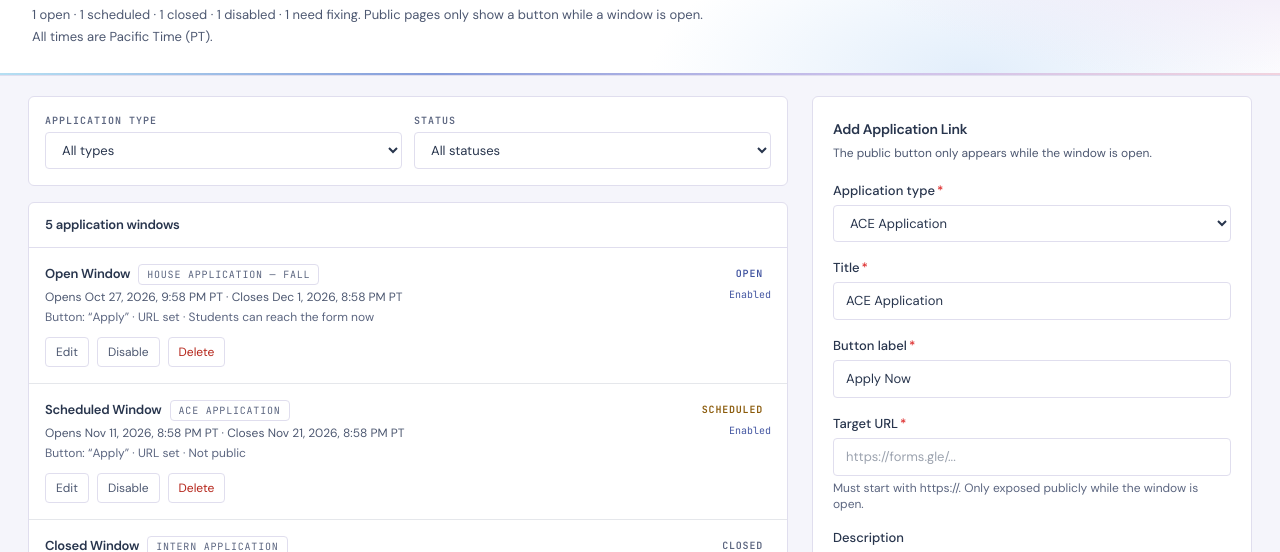
Test: public preview › previews the open state before the window opens, using the real public CTA
Click the button "Edit" below "Nov 11, 2026, 8:58 PM PT" at x=67, y=488, box [45,473,89,503]
(page scrolled)
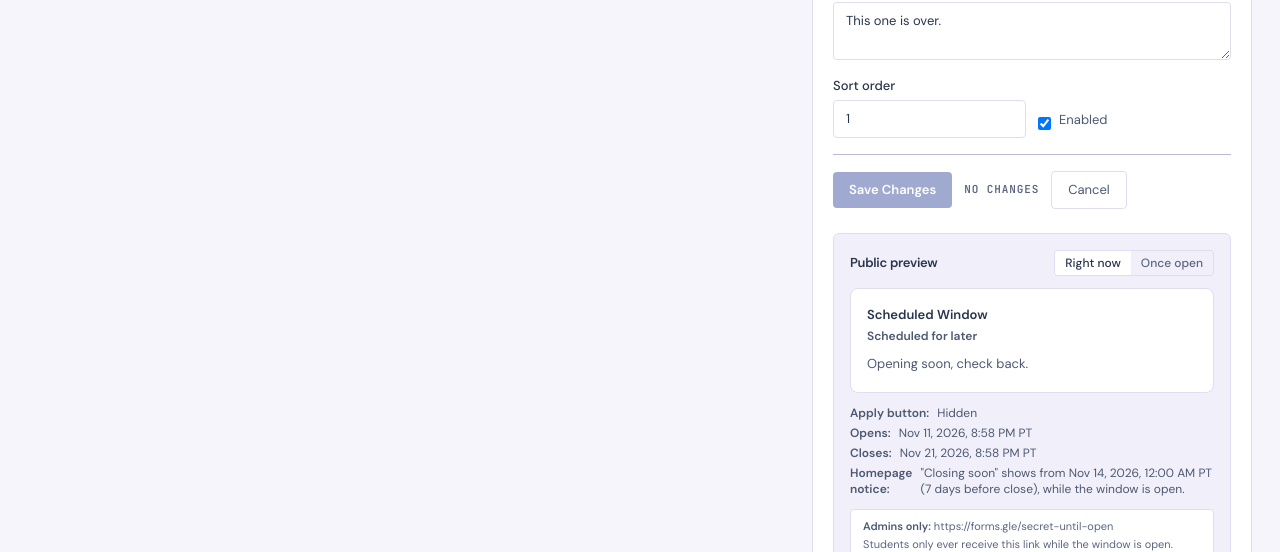
Click the button "Once open" at x=1172, y=263, box [1131,251,1213,275]
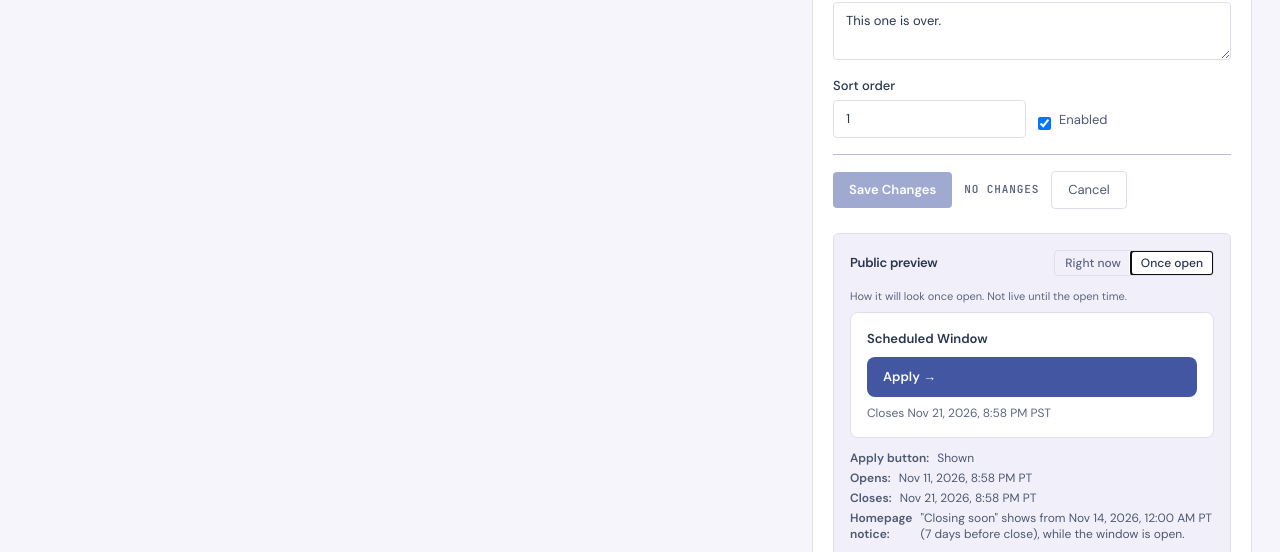
Check: the text "Shown" is shown, box [937,450,974,466]
